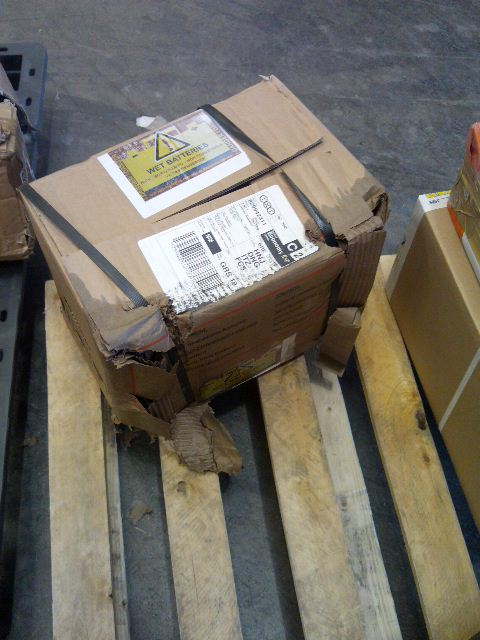label: (139, 185, 320, 319), (97, 110, 251, 215)
package: (19, 76, 393, 445), (379, 178, 480, 543)
